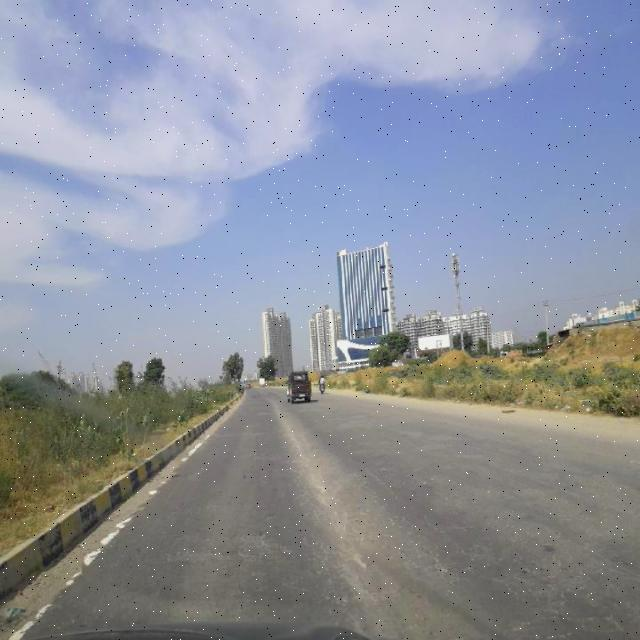D20: (305, 487, 617, 630)
D40: (160, 528, 283, 571)
